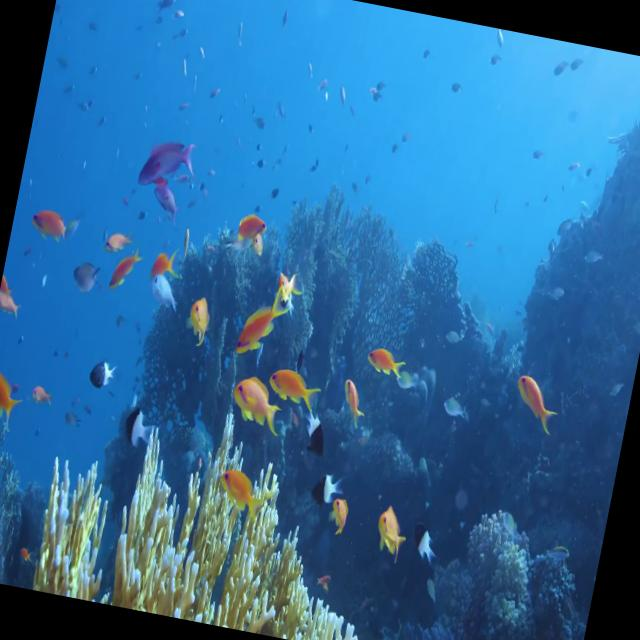fish: (234, 288, 289, 361), (137, 130, 197, 194), (228, 376, 288, 434), (508, 373, 559, 432), (264, 370, 323, 420), (144, 268, 188, 320), (372, 507, 411, 562), (118, 402, 162, 450), (312, 466, 347, 514), (320, 489, 354, 537), (335, 376, 370, 422), (362, 344, 405, 380), (0, 370, 27, 427), (186, 296, 218, 336), (237, 212, 273, 246)
